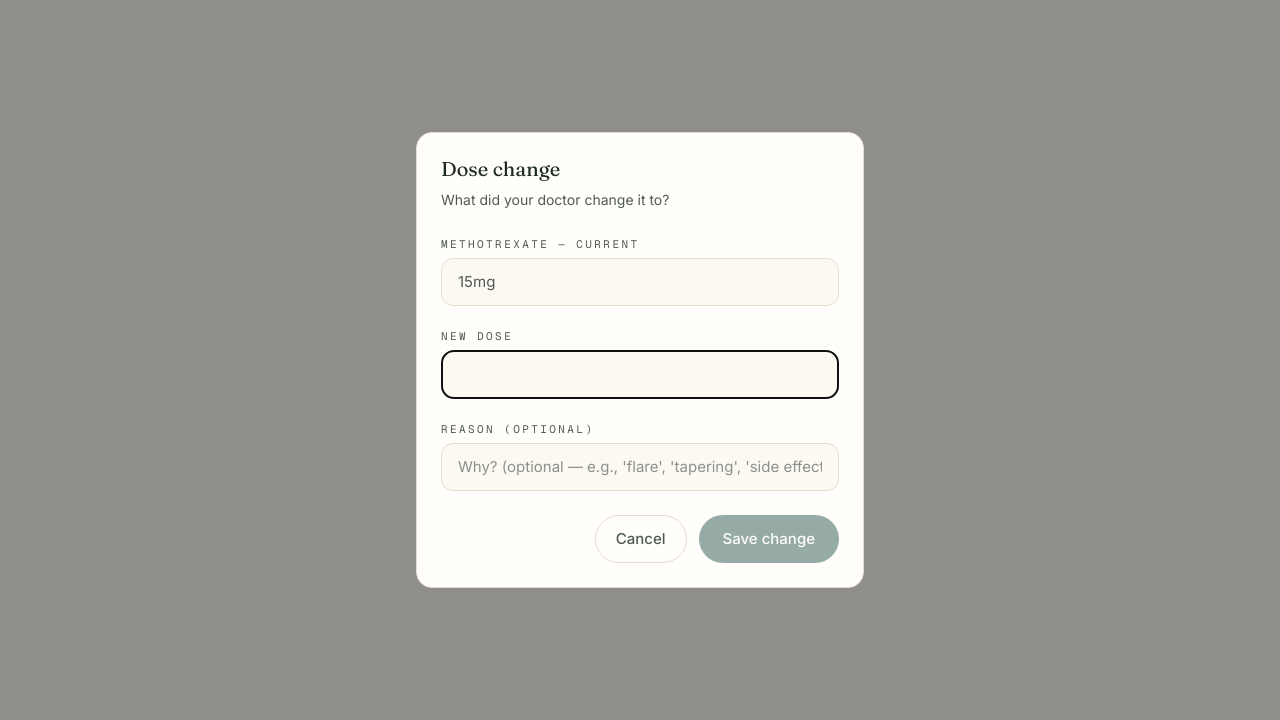
Test: DosageChangeDialog › shows current dose read-only and disables save until newDose differs
This screenshot has width=1280, height=720.
Check: the text with test id "dosage-change-current-dose" reads "15mg", box [458,272,495,291]
Check: the button with test id "dosage-change-submit" is disabled, box [698,515,839,563]
# Same value as currentDose — still disabled.
Step 1. Type "15mg" into the field labelled "New dose" → x=640, y=375, box [441,350,839,399]
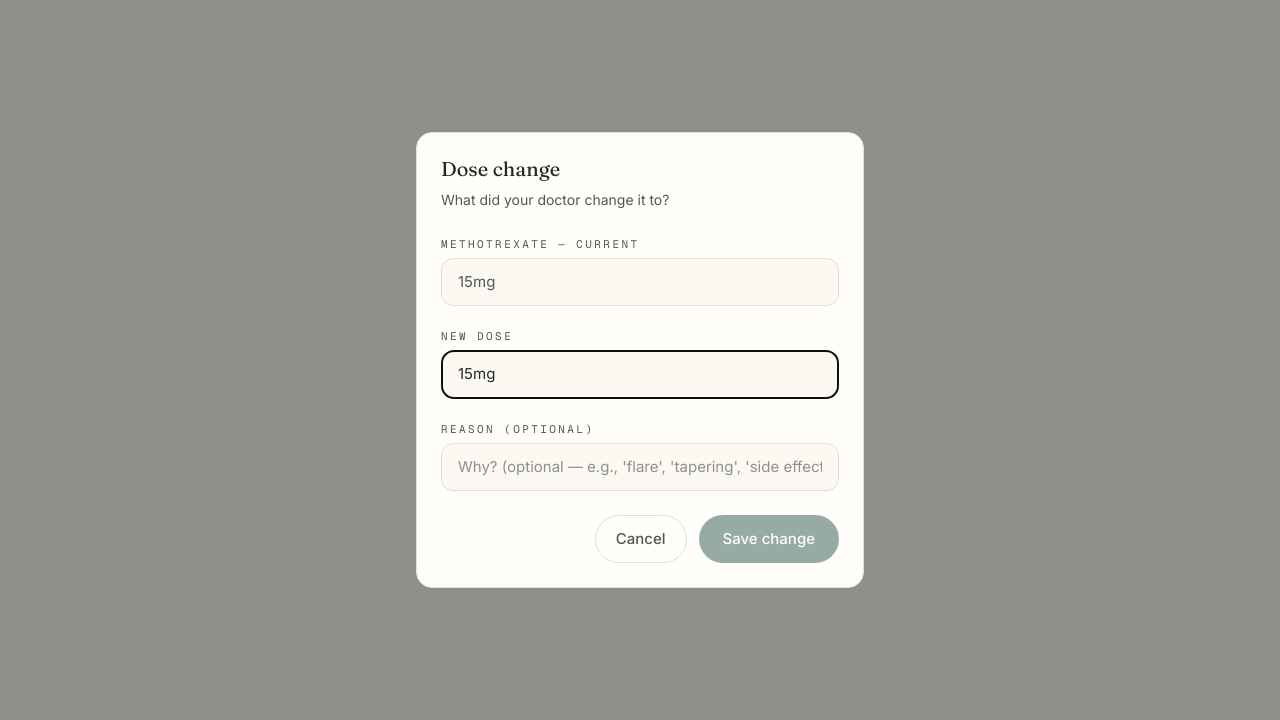
Check: the button with test id "dosage-change-submit" is disabled, box [698,515,839,563]
# Different value — enabled.
Step 2. Replace the text in the field labelled "New dose" with "20mg" → x=640, y=375, box [441,350,839,399]
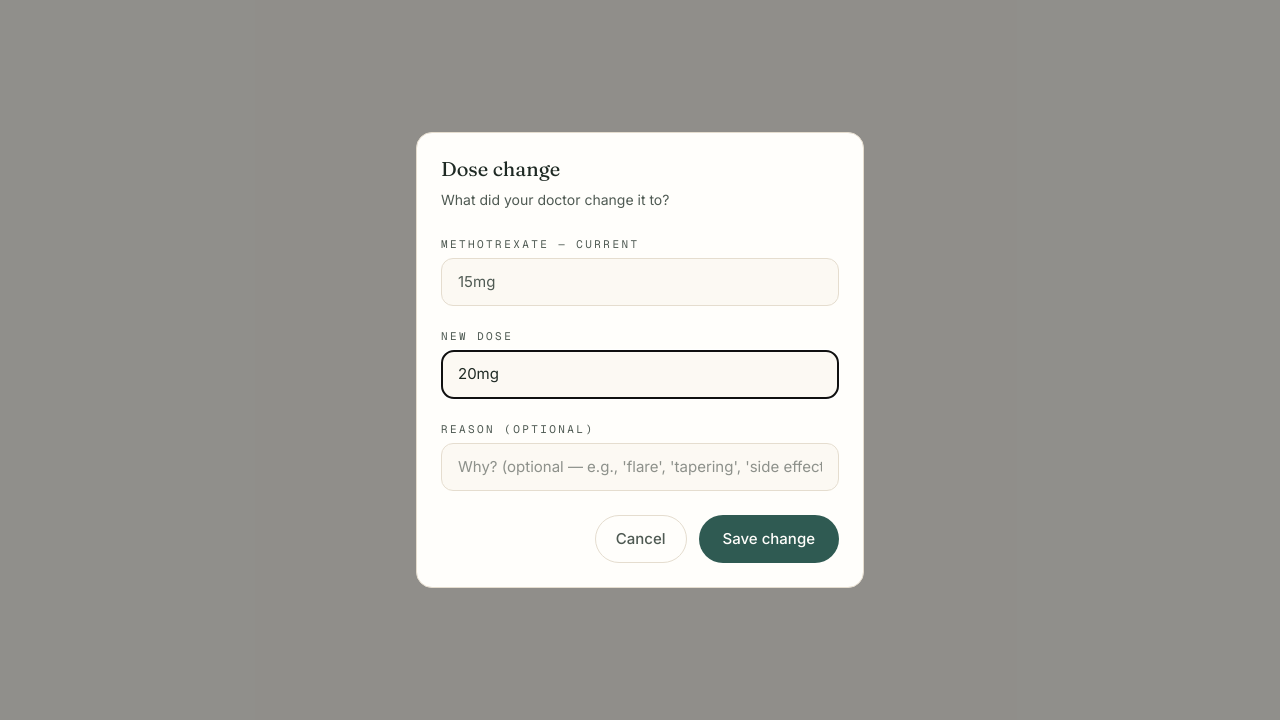
Check: the button with test id "dosage-change-submit" is enabled, box [698,515,839,563]
